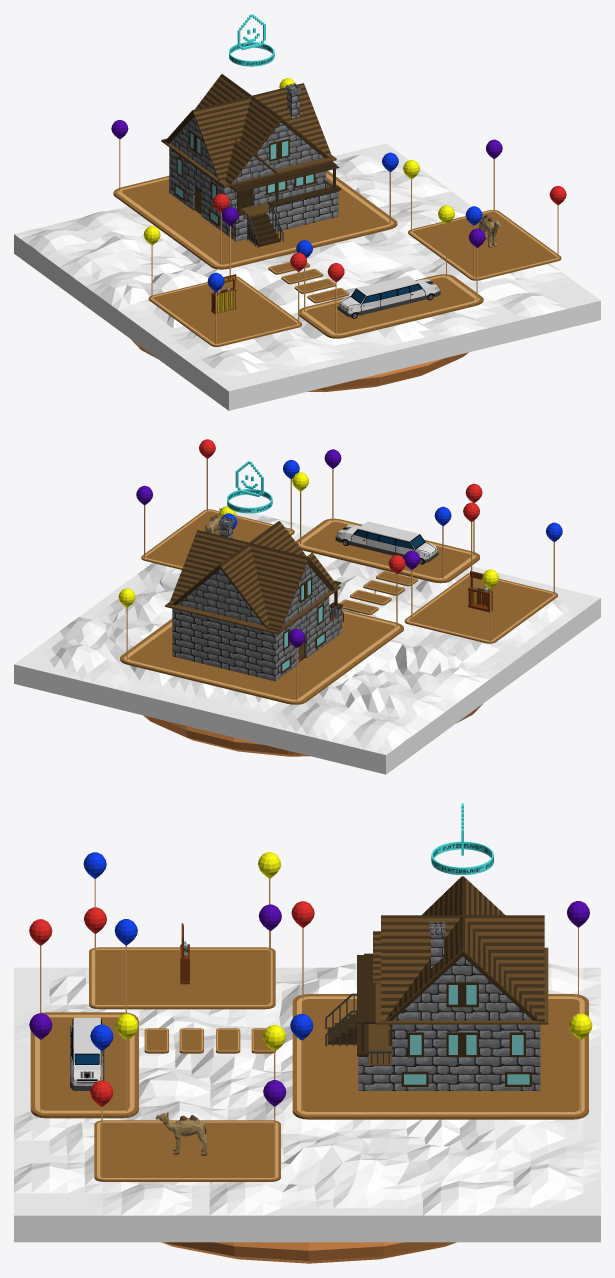
3 views of the same model, one above another, from view 1: azimuth 30°, elevation 25°; view 2: azimuth 150°, elevation 25°; view 3: azimuth 270°, elevation 25° (orthographic). The views are drawn at different scales.
Parts seen in each view (by area): view 1: Cube.013, Cube.586, VEHICLES_LIMOUSINE, UNDERGROUND_PIZZA, TYPE_PREMIUM, OBJRANDOM_LEMONADE_STAND; view 2: Cube.013, Cube.586, VEHICLES_LIMOUSINE, UNDERGROUND_PIZZA, TYPE_PREMIUM, OBJRANDOM_LEMONADE_STAND; view 3: Cube.013, Cube.586, UNDERGROUND_PIZZA, VEHICLES_LIMOUSINE, TYPE_PREMIUM, ANIMAL_CAMELLO.
Boxes of the visible parts, <box> form: Cube.013: <box>14,78,600,410</box>; Cube.586: <box>161,74,341,247</box>; VEHICLES_LIMOUSINE: <box>337,275,440,318</box>; UNDERGROUND_PIZZA: <box>131,339,468,392</box>; TYPE_PREMIUM: <box>229,14,274,66</box>; OBJRANDOM_LEMONADE_STAND: <box>211,274,236,313</box>; Cube.013: <box>14,439,600,774</box>; Cube.586: <box>165,516,343,681</box>; VEHICLES_LIMOUSINE: <box>335,521,438,564</box>; UNDERGROUND_PIZZA: <box>143,704,482,756</box>; TYPE_PREMIUM: <box>227,461,272,513</box>; OBJRANDOM_LEMONADE_STAND: <box>468,571,492,612</box>; Cube.013: <box>14,852,600,1242</box>; Cube.586: <box>325,876,548,1090</box>; UNDERGROUND_PIZZA: <box>161,1242,456,1263</box>; VEHICLES_LIMOUSINE: <box>70,1017,104,1090</box>; TYPE_PREMIUM: <box>431,803,493,874</box>; ANIMAL_CAMELLO: <box>155,1112,207,1155</box>.
Bounding box in the file's own units: 4000 × 2655 × 4000.
Materials: 42 (3 with a texture image).
